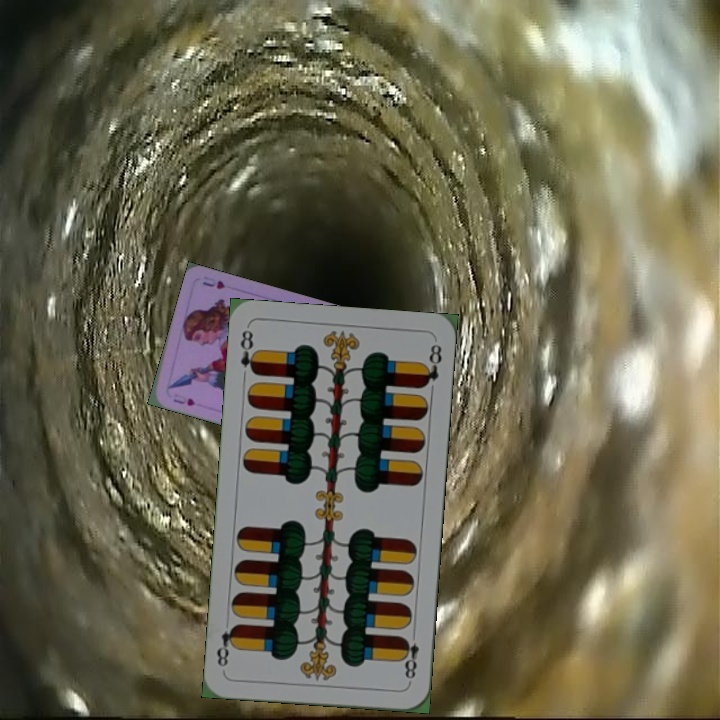E8: (397, 627, 422, 686), (236, 326, 261, 378)
HU: (169, 389, 198, 409)
